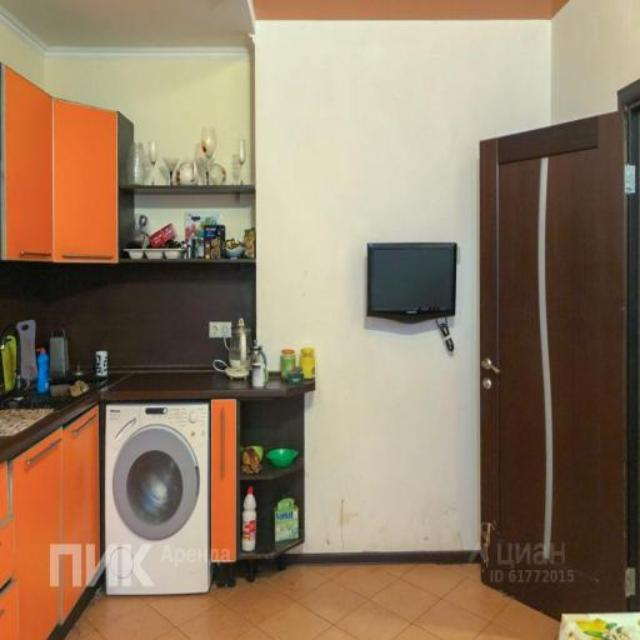Flat-Panel-TV: (366, 242, 456, 322)
Washing-Machine: (106, 402, 212, 594)
